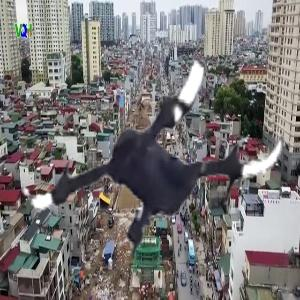drone: (21, 14, 292, 285)
